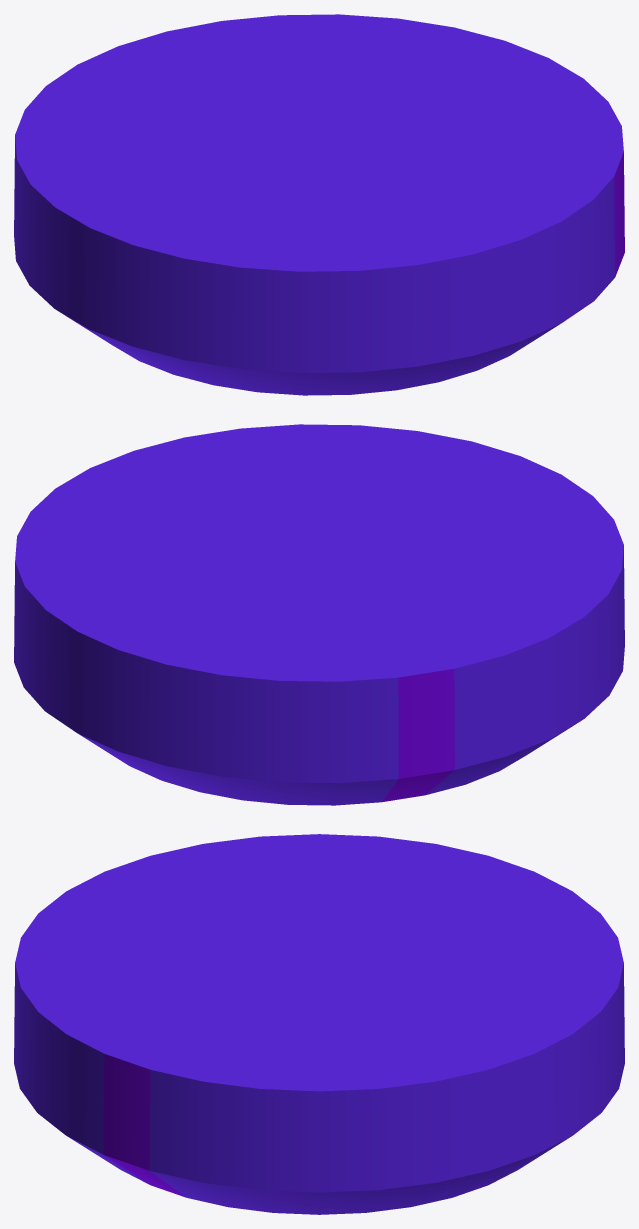
Rendered from tip3.glb.
3 renders of one model, top to bottom at view 1: azimuth 30°, elevation 25°; view 2: azimuth 150°, elevation 25°; view 3: azimuth 270°, elevation 25°, orthographic.
Parts seen in each view (by area): view 1: tip; view 2: tip; view 3: tip.
Part boxes in pixels (x1=…): tip: x1=14, y1=14, x2=624, y2=395; tip: x1=14, y1=424, x2=624, y2=805; tip: x1=14, y1=834, x2=624, y2=1214.
Bounding box in the file's own units: 0.2473 × 0.09 × 0.2473.
